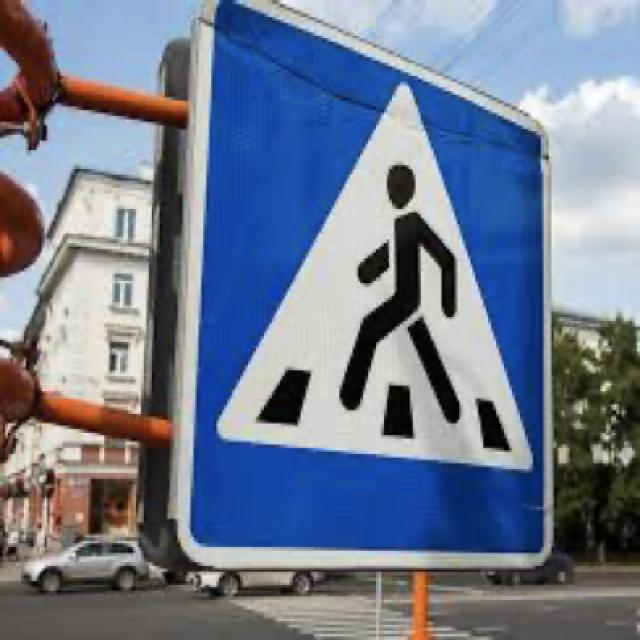crosswalk: (176, 0, 552, 566)
